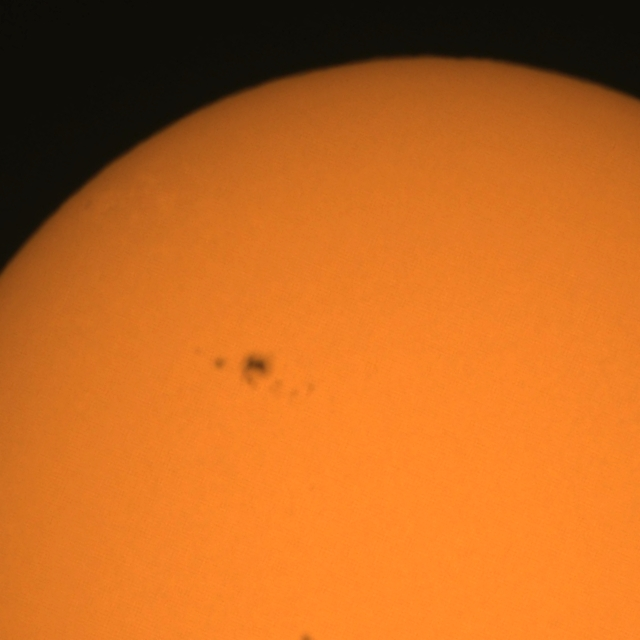sunspot: (207, 351, 269, 388), (241, 352, 270, 389), (211, 354, 228, 374), (297, 632, 316, 640)
